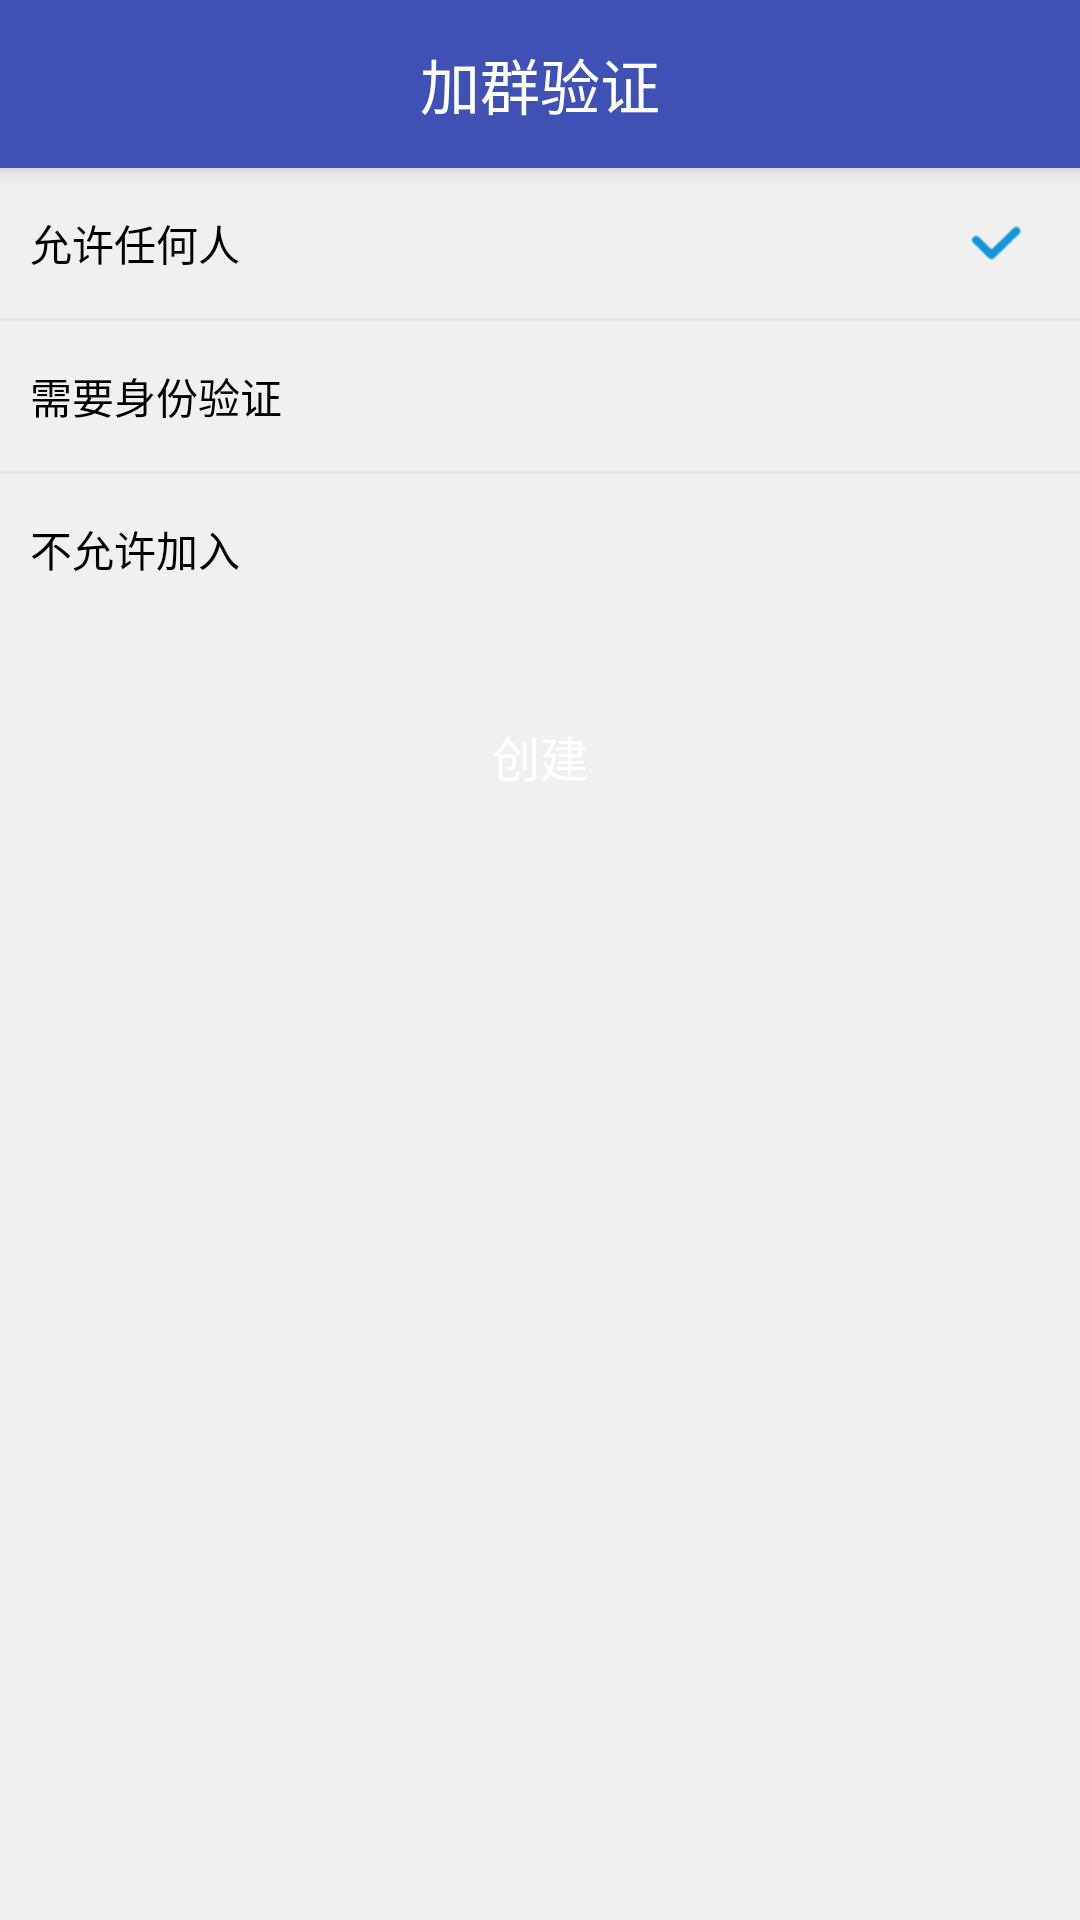

Where to tap for icons on this 1080w x 1920h app screen, as point (x, y):
select: point (996, 243)
